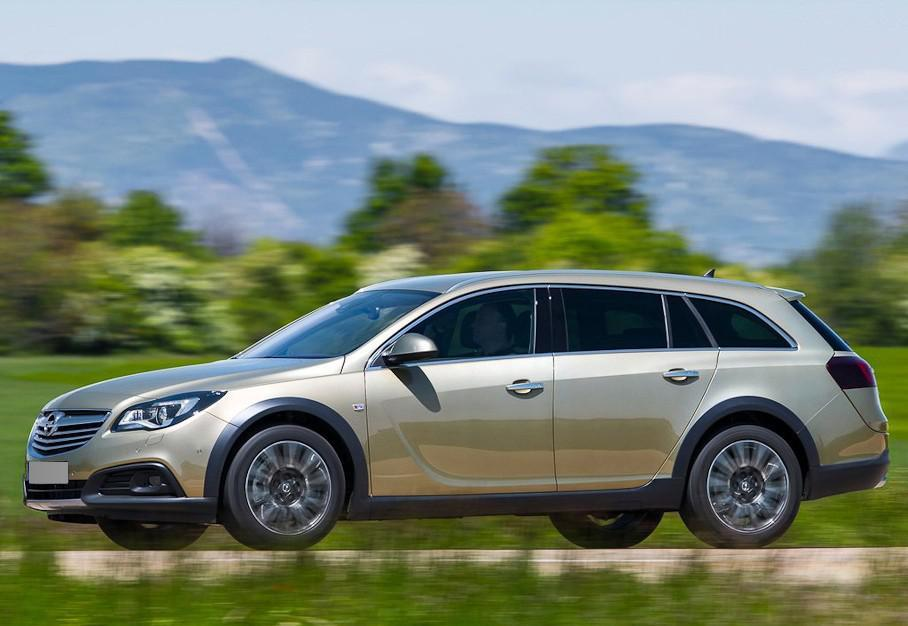Wagon: (23, 269, 890, 549)
